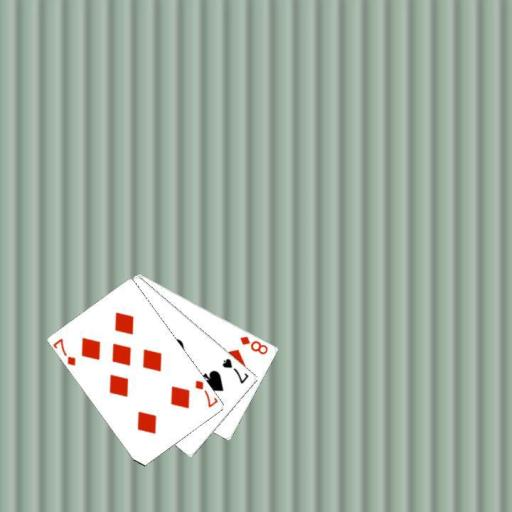7D: (51, 335, 78, 367), (192, 377, 218, 409)
7S: (219, 355, 250, 385)
8D: (237, 333, 269, 356)
